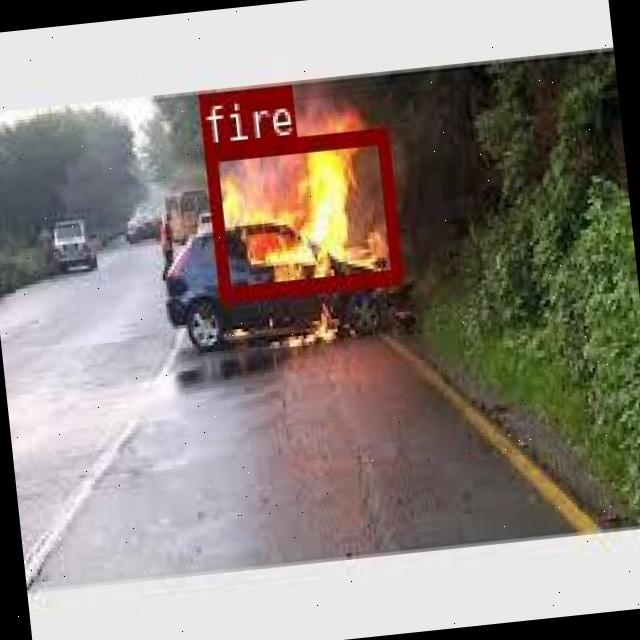fire: (202, 126, 401, 298)
